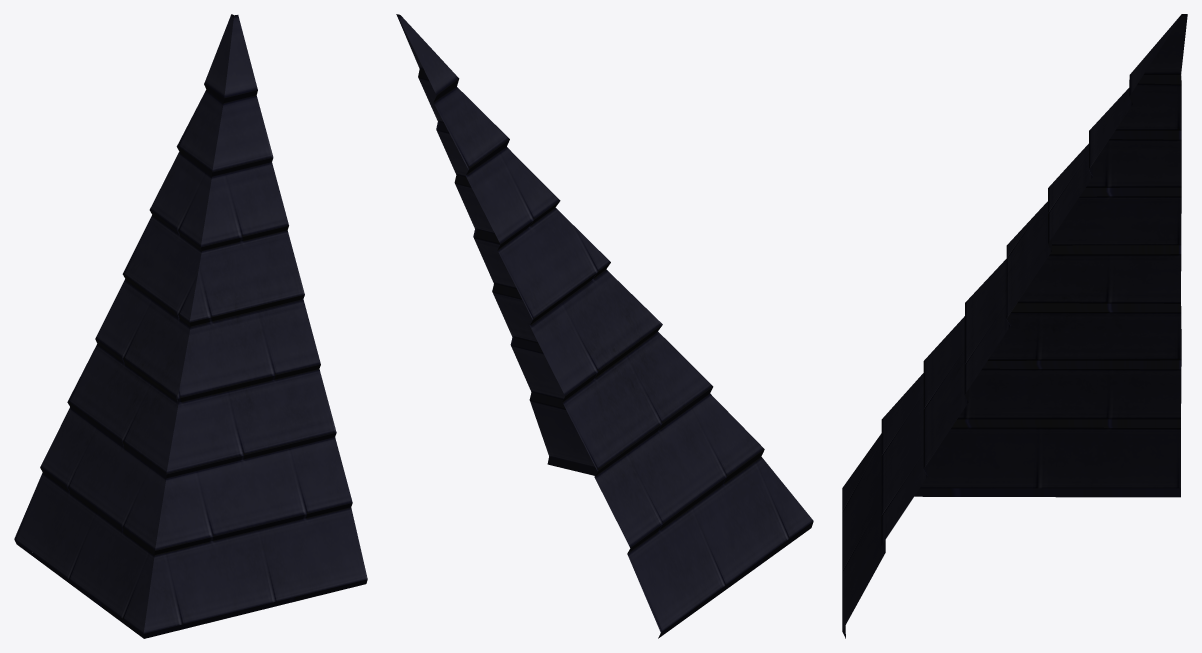
The model's file is Roof_CORNER_ONE_BY_ONE.fbx.
The picture shows the model from 3 angles, left to right: view 1: azimuth 30°, elevation 25°; view 2: azimuth 150°, elevation 25°; view 3: azimuth 270°, elevation 25°; orthographic projection. The views are drawn at different scales.
Parts seen in each view (by area): view 1: Roof_CORNER_ONE_BY_ONE; view 2: Roof_CORNER_ONE_BY_ONE; view 3: Roof_CORNER_ONE_BY_ONE.
Part boxes in pixels (x1,y1,x2,y2): Roof_CORNER_ONE_BY_ONE: [14, 14, 367, 638]; Roof_CORNER_ONE_BY_ONE: [396, 14, 813, 638]; Roof_CORNER_ONE_BY_ONE: [842, 14, 1187, 638].
Bounding box in the file's own units: 0.999 × 2.03 × 1.02.
